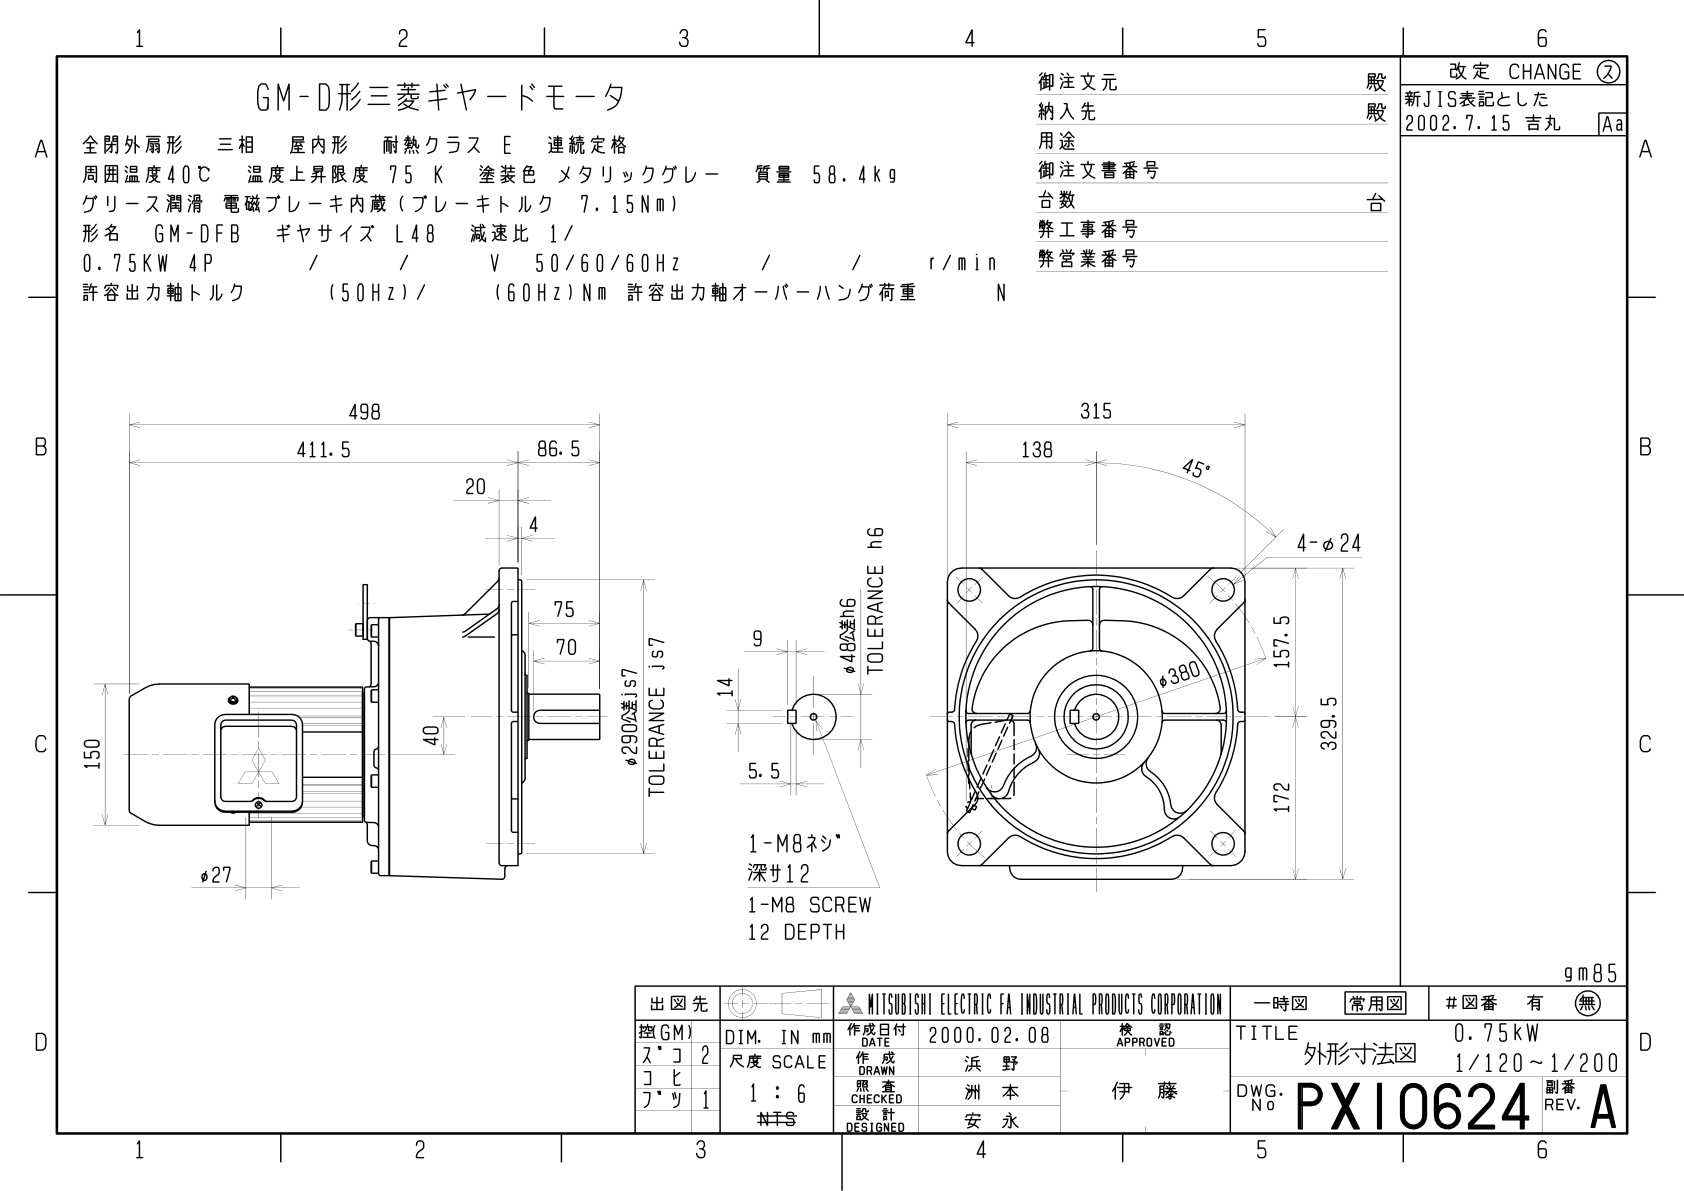GM_D_屋内＿三相_フランジ: (8, 1, 1669, 1188)
